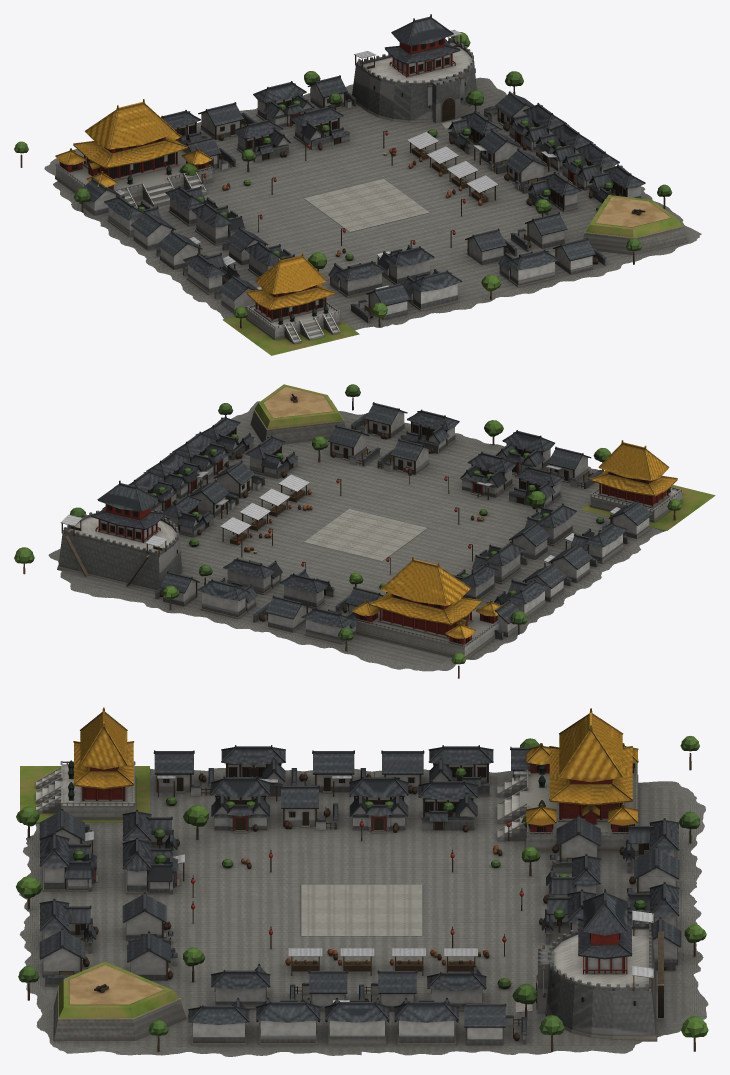
File: gunpowder-town-big-a-sinic.glb
3 renders of one model, top to bottom at view 1: azimuth 30°, elevation 25°; view 2: azimuth 150°, elevation 25°; view 3: azimuth 270°, elevation 25°, orthographic. The views are drawn at different scales.
Parts seen in each view (by area): view 1: LOD0; view 2: LOD0; view 3: LOD0.
Boxes of the visible parts, x1=… form: LOD0: x1=14, y1=14, x2=701, y2=355; LOD0: x1=14, y1=384, x2=715, y2=678; LOD0: x1=16, y1=707, x2=708, y2=1056.
Size of what is drawn, in the model's own units: 8.05 by 1.45 by 8.12.
3 materials, 3 textured.
